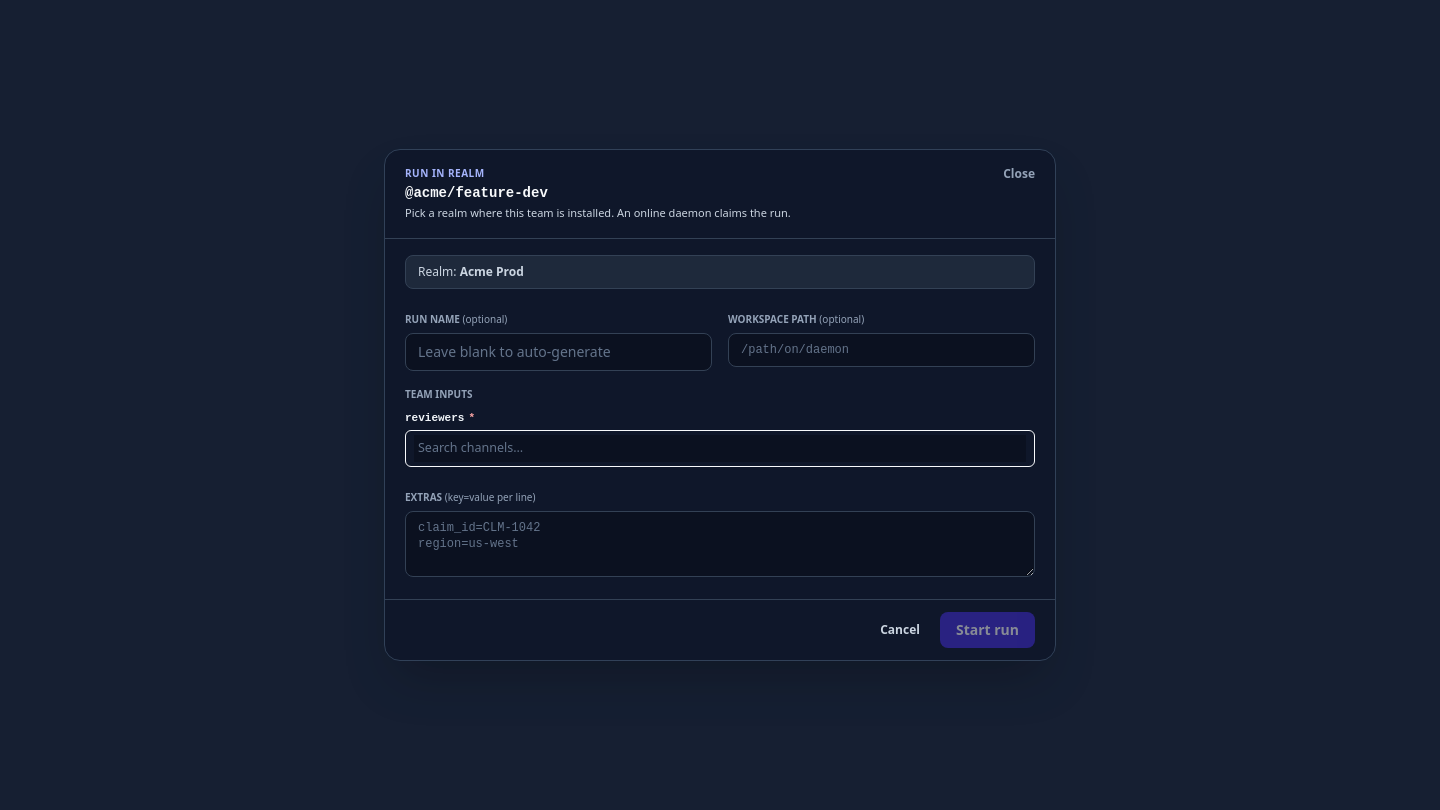
Test: Run_in_realm_dialog — channel inputs (PLAN-notifications-v2 B4.2) › the channel picker lists the channels the run's realm can use (sends the realm)
Focus the dropdown with placeholder "Search channels…" at (720, 448), box 414,435 -> 1026,462
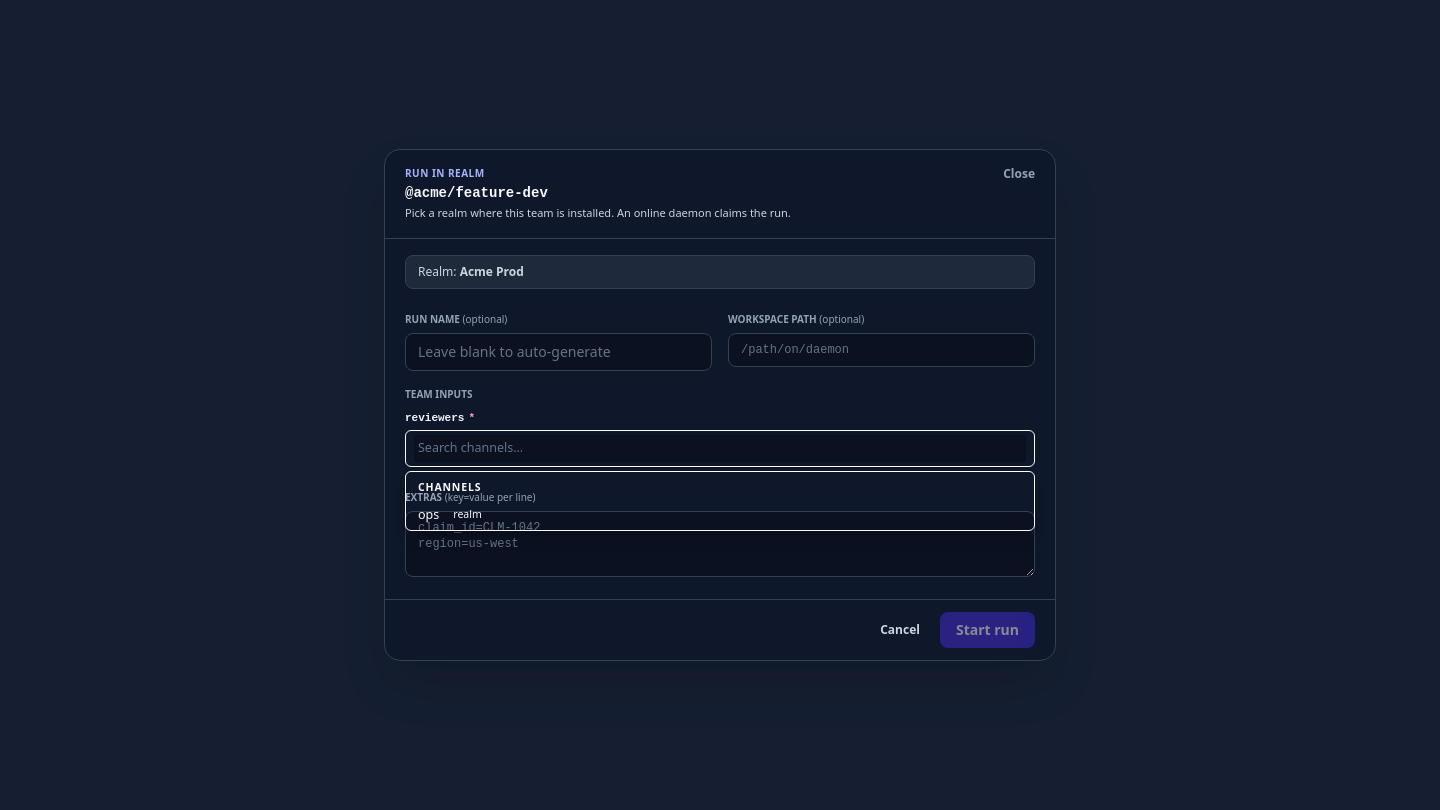
Check: the text "ops" is shown, box 418,506 -> 439,524
